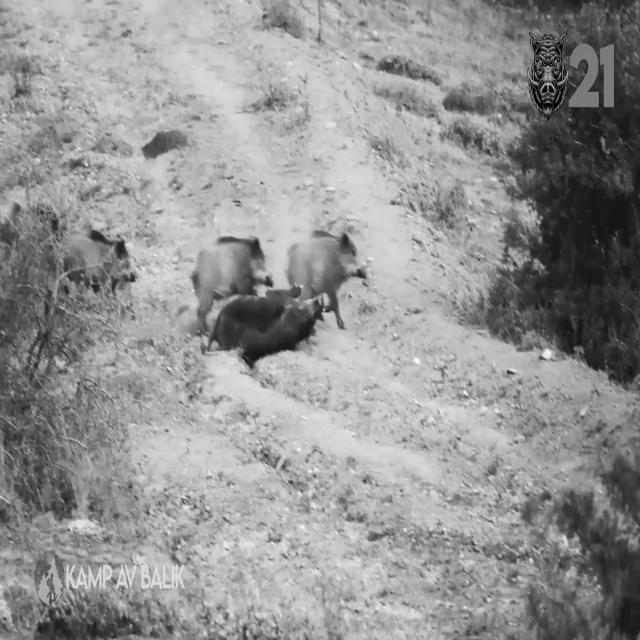boar: (210, 287, 323, 360), (286, 230, 366, 328), (191, 236, 272, 332), (63, 228, 135, 287)
